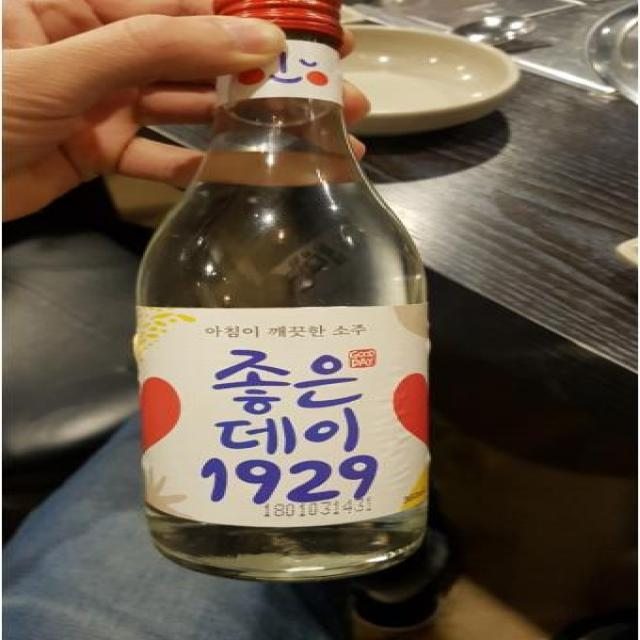soju-bottle: (132, 1, 430, 584)
